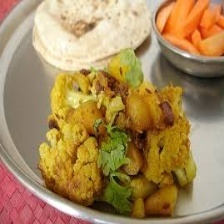roti: (32, 0, 153, 70)
